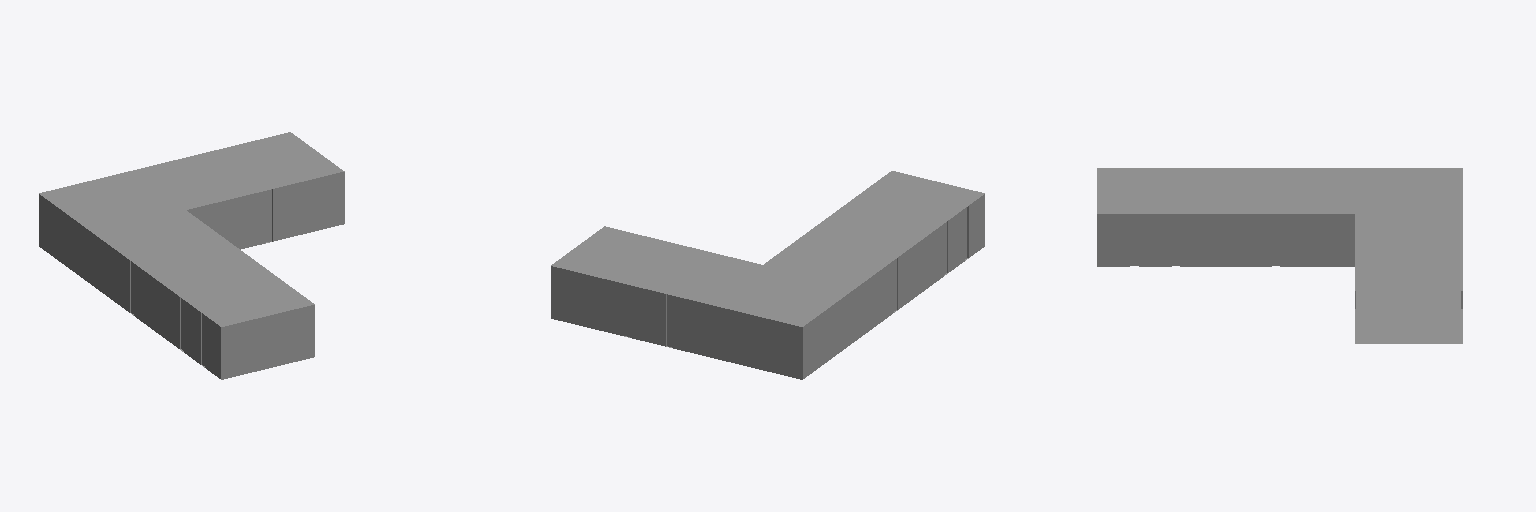
File: hall.obj
3 renders of one model, left to right at view 1: azimuth 30°, elevation 25°; view 2: azimuth 150°, elevation 25°; view 3: azimuth 270°, elevation 25°, orthographic.
Parts seen in each view (by area): view 1: floor.001_Plane.003, Plane.001; view 2: floor.001_Plane.003, Plane.001; view 3: floor.001_Plane.003, Plane.001, floor_Plane.005.
Boxes of the visible parts, box(x1,y1,x2,y2) form: floor.001_Plane.003: box(39, 132, 344, 326); Plane.001: box(39, 150, 344, 379); floor.001_Plane.003: box(551, 171, 984, 326); Plane.001: box(551, 183, 984, 379); floor.001_Plane.003: box(1097, 168, 1462, 290); Plane.001: box(1097, 168, 1462, 308); floor_Plane.005: box(1355, 291, 1462, 343).
Size of the model in its own units: 35 by 7 by 44.